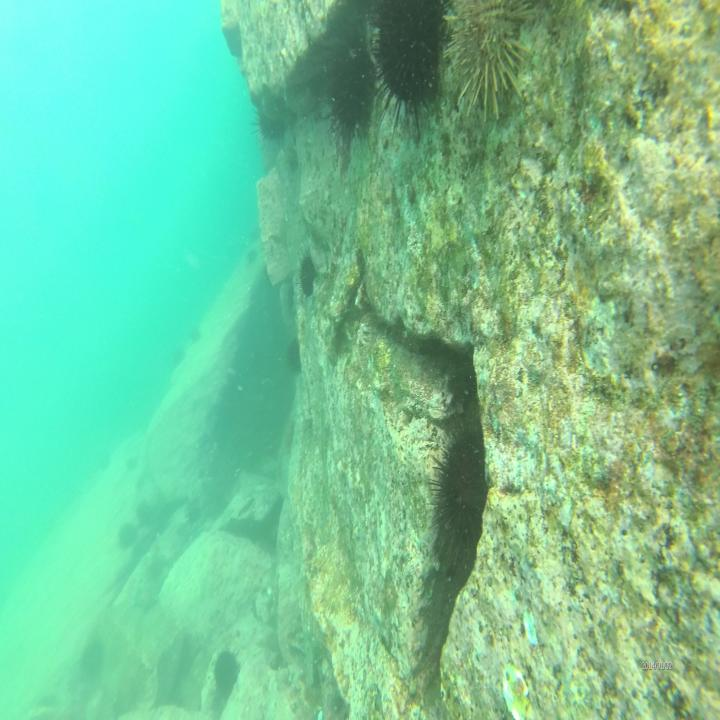echinus: (426, 413, 500, 564), (447, 0, 535, 122), (372, 1, 445, 139), (319, 29, 375, 144), (251, 101, 288, 148), (212, 650, 240, 691), (296, 248, 316, 298), (80, 636, 104, 672), (287, 340, 306, 377), (132, 499, 154, 529), (118, 519, 136, 547)
